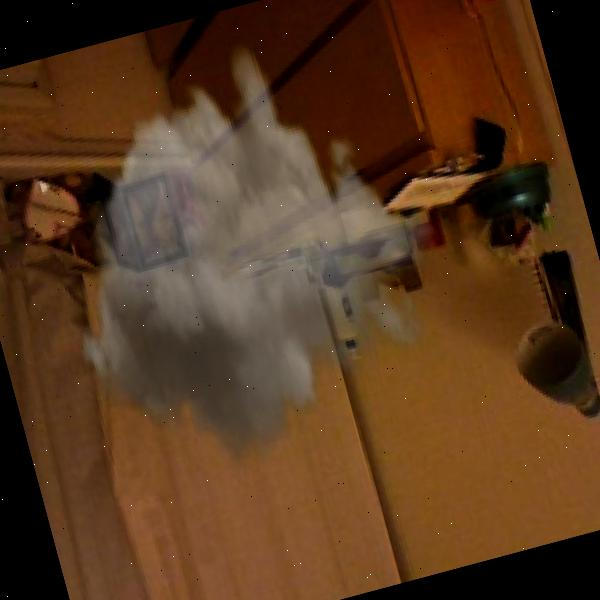smoke: (9, 2, 486, 509)
